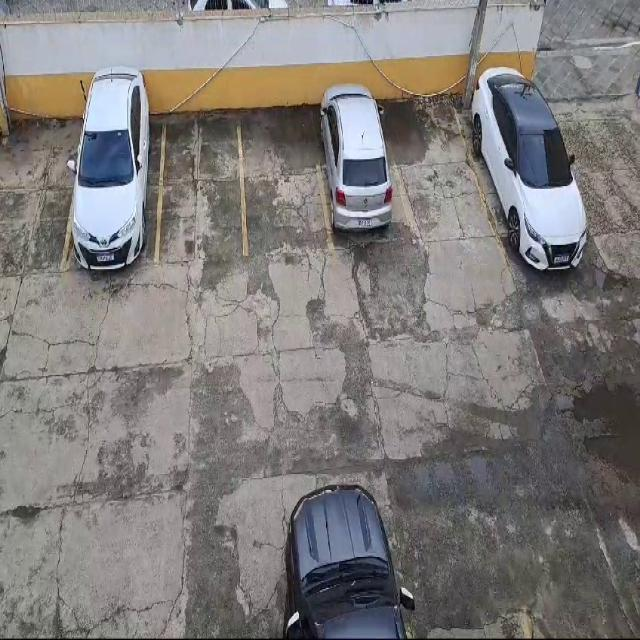empty: (380, 100, 500, 246), (157, 108, 246, 267), (238, 108, 333, 256)
notEmpty: (456, 92, 585, 268), (310, 99, 420, 263), (61, 113, 164, 271)
